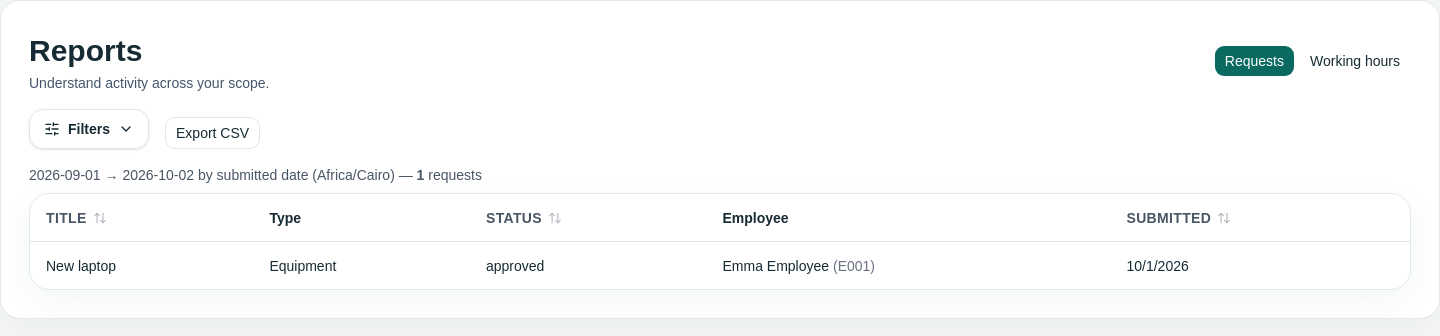
Scenario: ReportsPage › renders the working-hours report with totals
Expected: the text "Emma Employee" is shown, [722,258,829,274]
What coordinates should you click on to do the following:
click the tab "Working hours"
I would click on:
 (1355, 61)
Its box is [1299,45,1411,77].
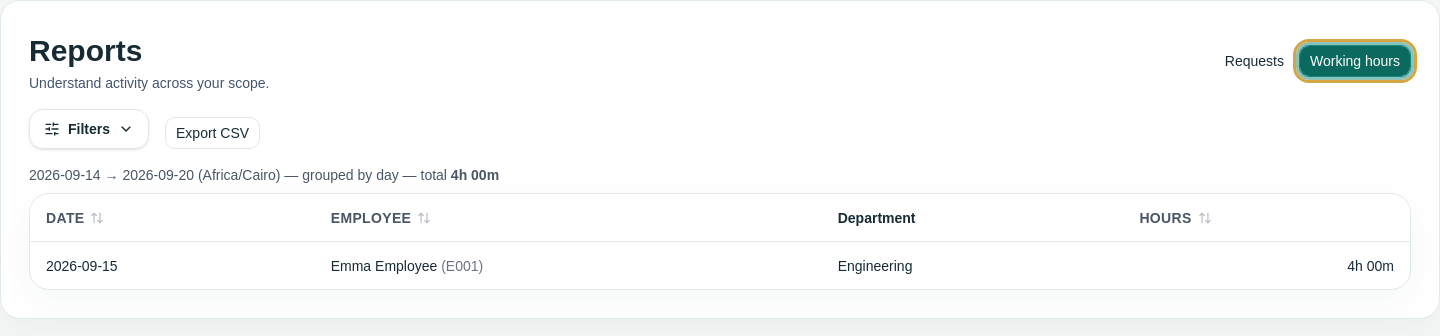
Expected: the text "4h 00m" next to "total" is shown, [451,167,499,183]
Expected: the text "Engineering" is shown, [822,242,1123,289]
